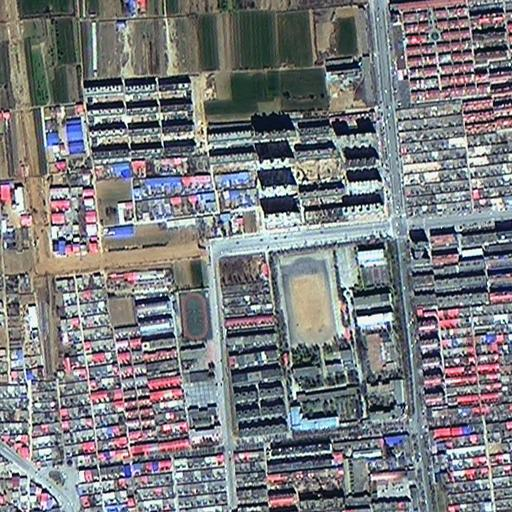school: (268, 235, 412, 433), (172, 285, 222, 435)
